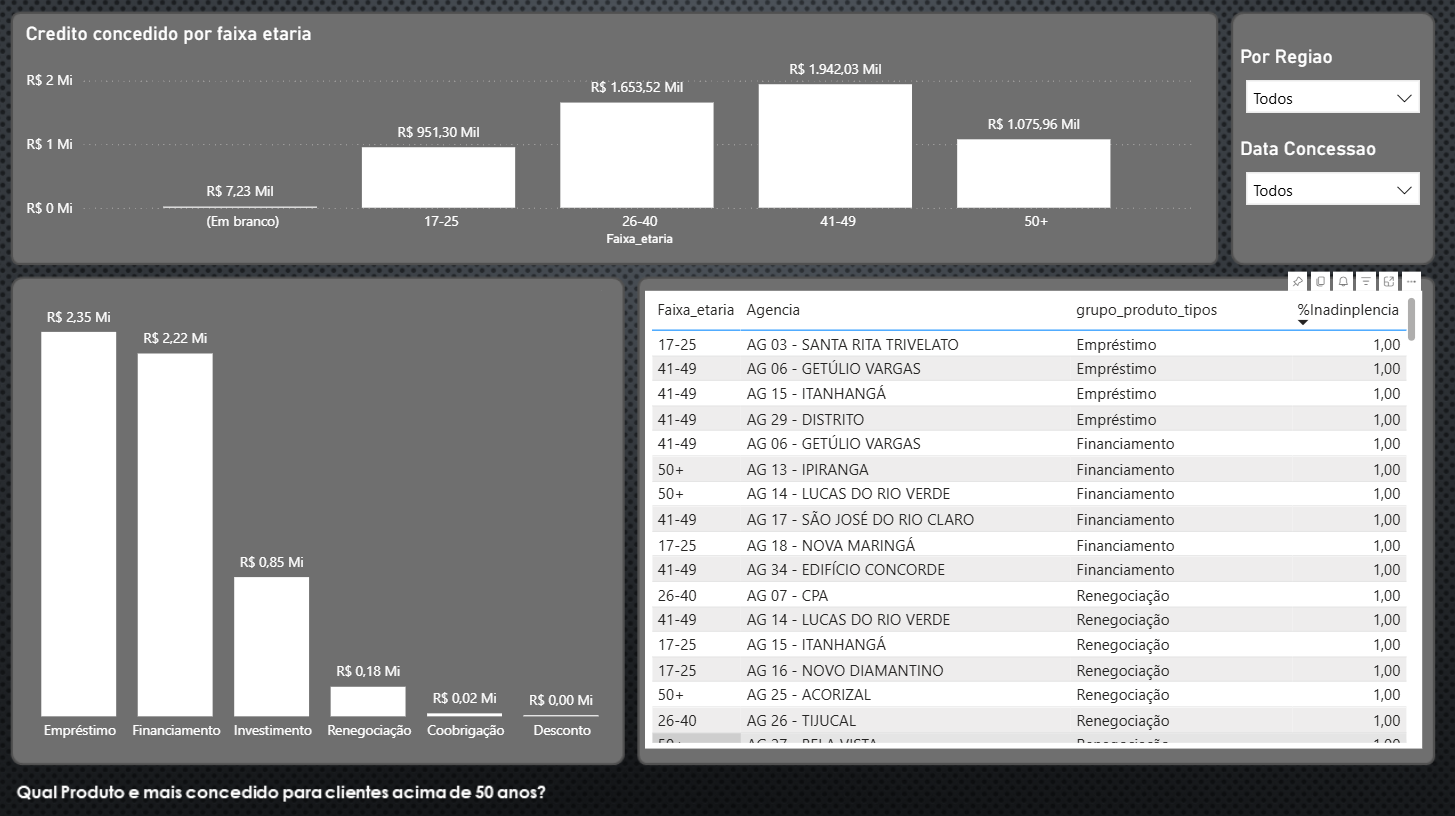

The page's visual inventory and layout, read from the dashboard file:
{"tool":"powerbi","page":{"name":"Perfil de Cliente e Produtos","canvas":[1280,720],"ordinal":2},"visuals":[{"type":"slicer","title":"Data Concessao","fields":{"Values":["Operações.data_referencia_concessao"]},"box":[1085,121,172,63],"z":0},{"type":"slicer","title":"Por Regiao","fields":{"Values":["Agencia.Regional"]},"box":[1085,41,172,63],"z":1000},{"type":"columnChart","title":"Credito concedido por faixa etaria","fields":{"Category":["Pessoas.Faixa_etaria"],"Y":["Sum(Operações.saldo_total)"]},"box":[20,20,1035,202],"z":2000},{"type":"clusteredColumnChart","fields":{"Category":["Operações.grupo_produto_tipos"],"Y":["Operações.total_de_saldo"]},"box":[0,257,568,402],"z":3000},{"type":"tableEx","fields":{"Values":["Pessoas.Faixa_etaria","Agencia.Agencia","Operações.grupo_produto_tipos","Operações.%Inadinplencia"]},"box":[568.1,256.9,681.1,401.8],"z":4000}]}

Visuals, with their boxes in screenshot pixels (x1, y1, x2, y2), scaled from the page's 1280x720 canvas onto the 1455x816 screenshot:
"Data Concessao" slicer: <region>1233, 137, 1429, 209</region>
"Por Regiao" slicer: <region>1233, 46, 1429, 118</region>
"Credito concedido por faixa etaria" columnChart: <region>23, 23, 1199, 252</region>
clusteredColumnChart - Operações.grupo_produto_tipos x Operações.total_de_saldo: <region>0, 291, 646, 747</region>
tableEx - Pessoas.Faixa_etaria x Agencia.Agencia: <region>646, 291, 1420, 747</region>
